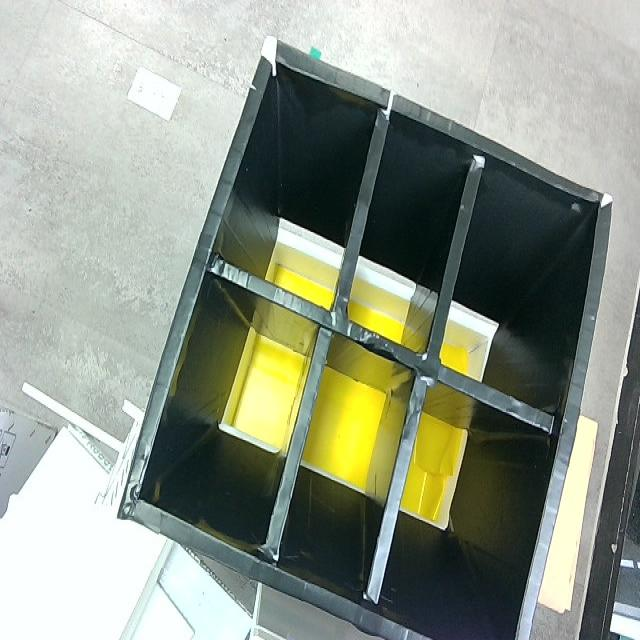box: (106, 29, 620, 640)
